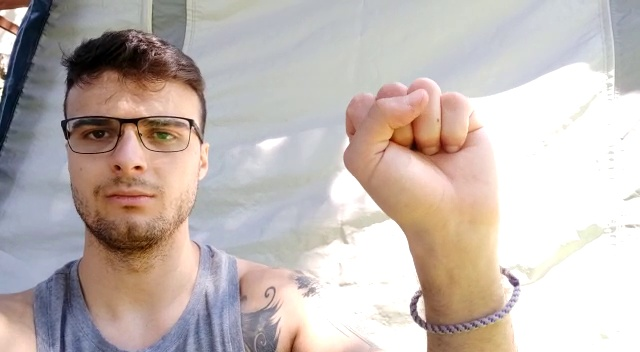Fist: (329, 73, 512, 245)
